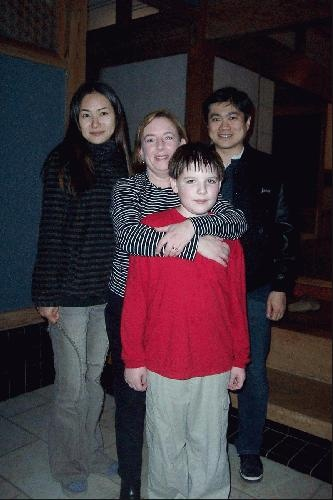head: (198, 87, 255, 159), (168, 143, 225, 214), (135, 107, 185, 175), (73, 81, 123, 147)
person: (110, 107, 252, 489), (29, 76, 133, 492), (138, 142, 251, 500), (106, 112, 188, 500)
